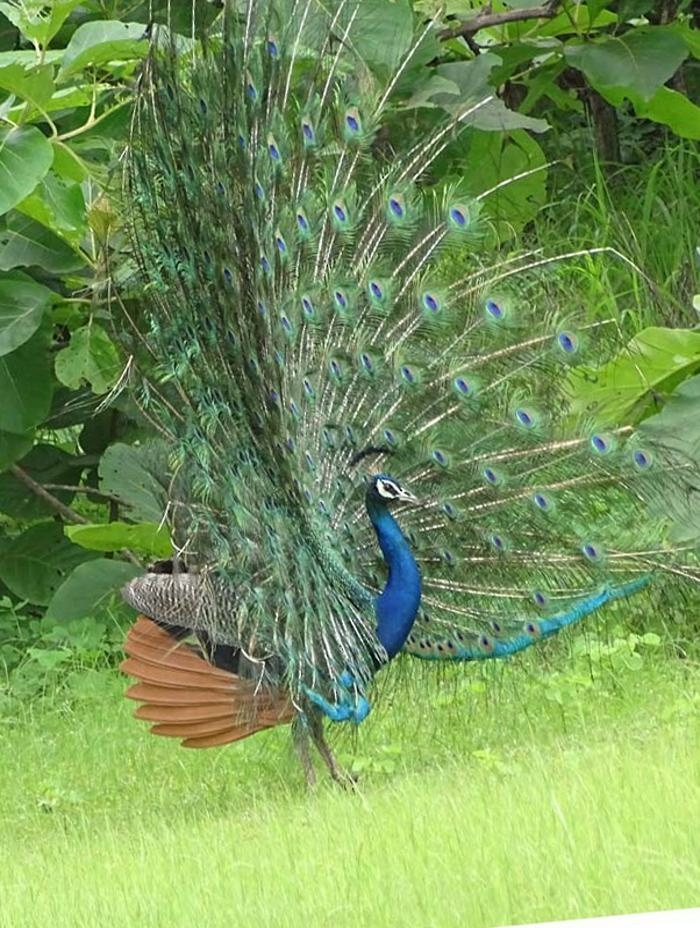peacock: (143, 176, 625, 759)
